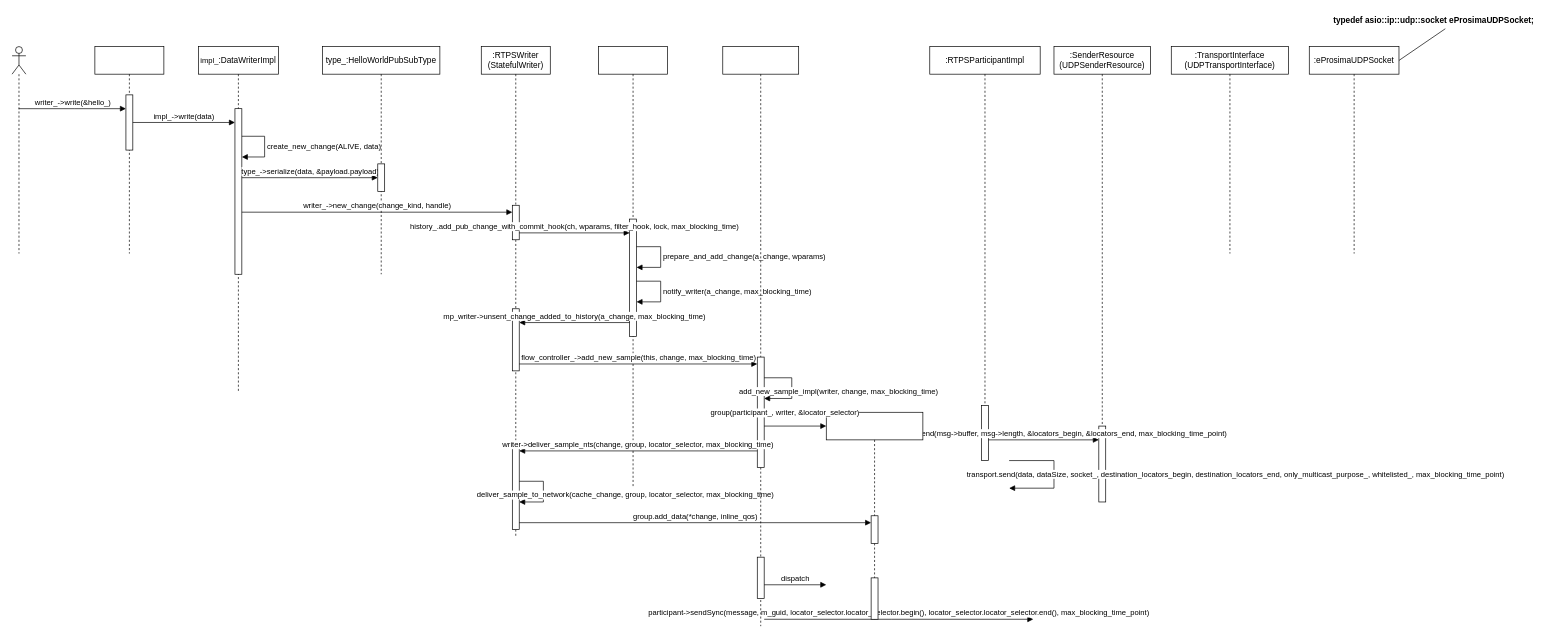
Some shapes in this 1546 by 638 pixel diagram are drawn without their labels. Each missing label, with the box of its shape:
:DataWriterHistory: (598, 46, 668, 488)
:FlowControllerImpl: (722, 46, 799, 626)
:RTPSMessageGroup: (826, 412, 923, 619)
writer_ :DataWriter: (94, 46, 164, 254)
